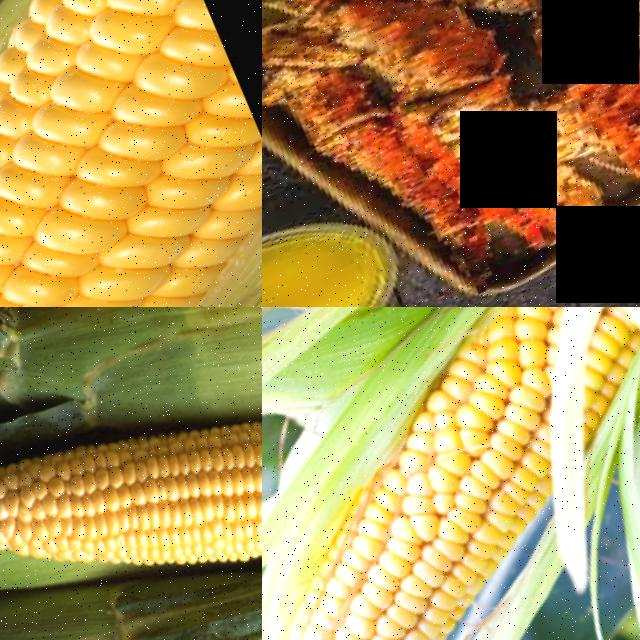corn: (262, 307, 640, 640), (0, 0, 262, 307), (0, 384, 248, 629), (179, 346, 262, 619)
crab: (262, 0, 640, 299), (488, 0, 640, 168)
